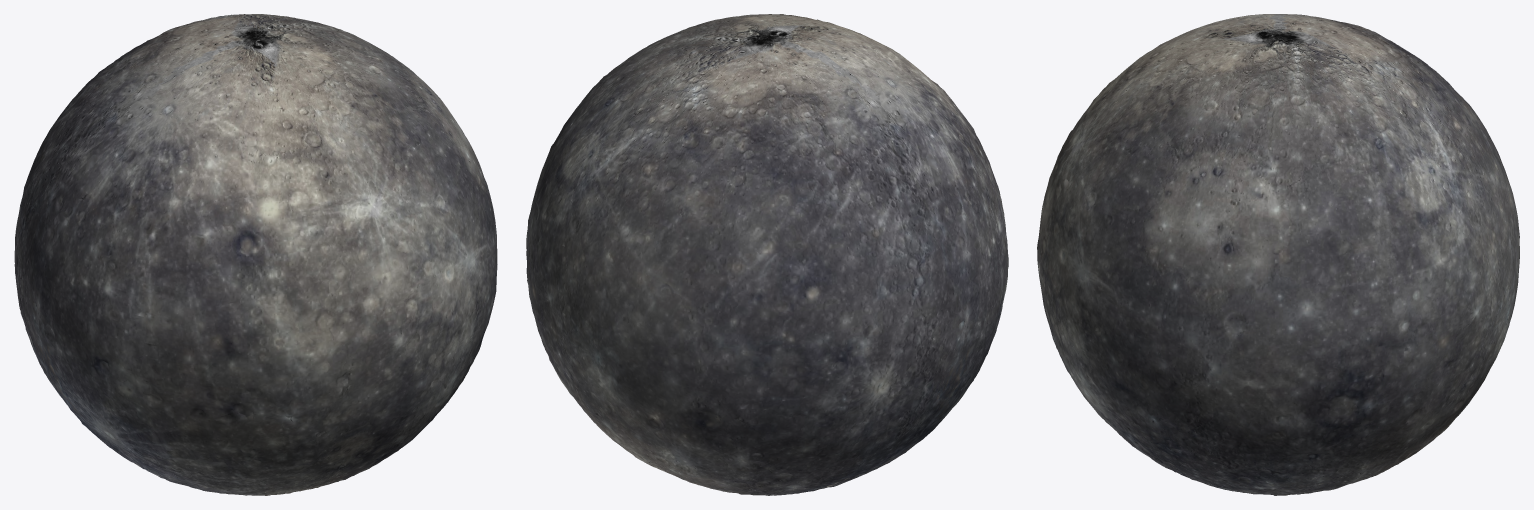
File: mercury.glb
3 renders of one model, left to right at view 1: azimuth 30°, elevation 25°; view 2: azimuth 150°, elevation 25°; view 3: azimuth 270°, elevation 25°, orthographic.
Visible parts, largest first — view 1: Mercury; view 2: Mercury; view 3: Mercury.
Boxes of the visible parts, x1,y1,x2,y2 form: Mercury: (14,14,497,495); Mercury: (526,14,1008,495); Mercury: (1037,14,1519,495).
Bounding box in the file's own units: 10.06 × 10.02 × 10.03.
Materials: 1 (1 with a texture image).
